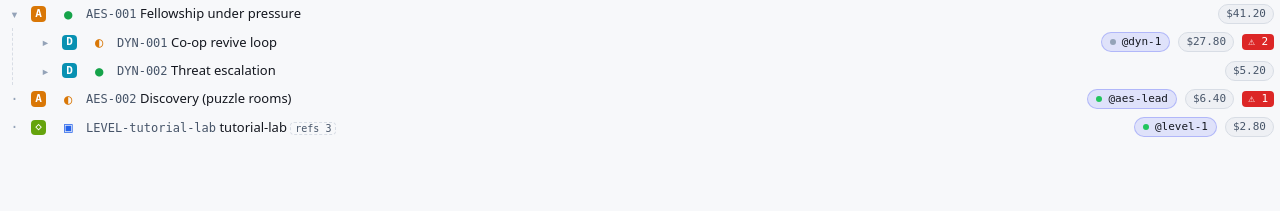
SpecTree › collapses and re-expands a row on disclosure click
Check: the text "MEC-001" is not shown
Check: the text "DYN-001" is shown, box [117,36,168,50]
Click the text with class "tree-row__disclosure" in the row of "DYN-001": {"x": 45, "y": 42} [41,34,50,50]
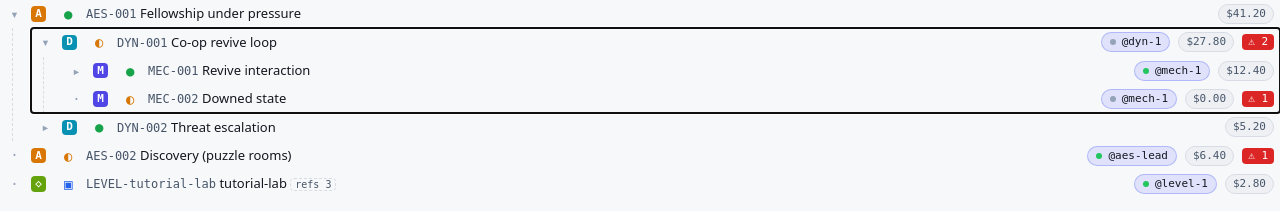
Check: the text "MEC-001" is shown, box [148,64,199,78]
